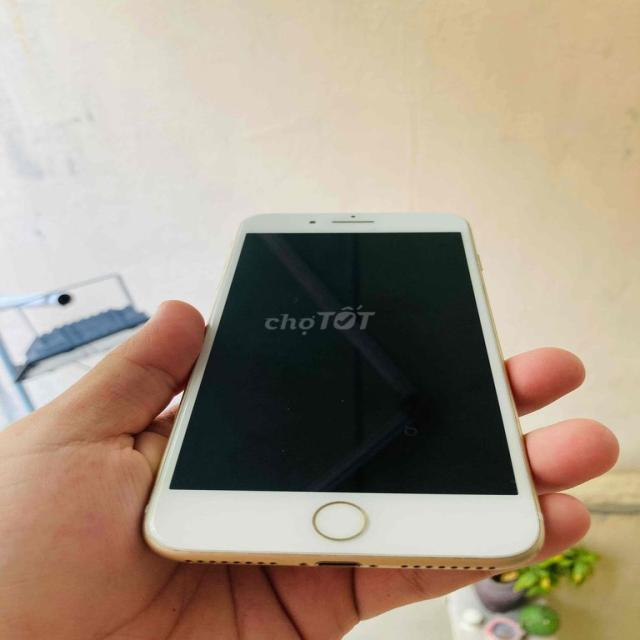gen_7_8: (144, 213, 544, 579)
